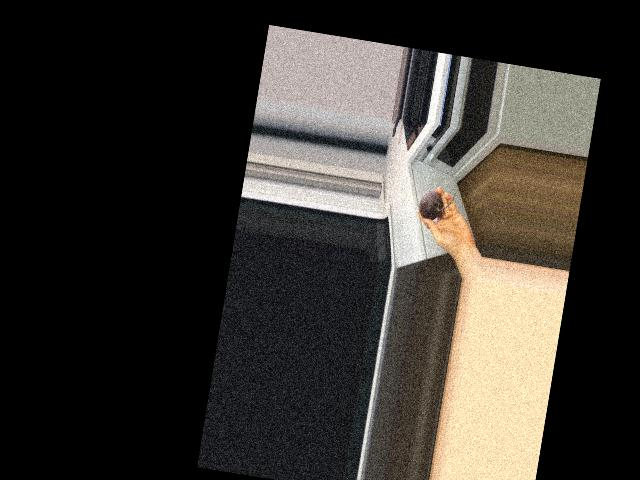beet: (417, 186, 456, 222)
